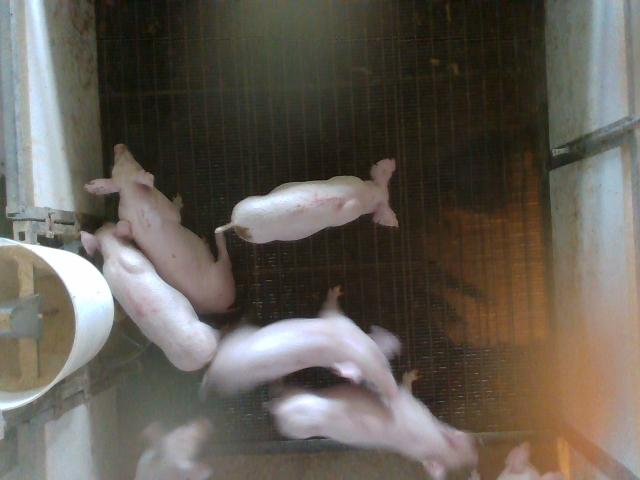pig-4: (81, 221, 219, 371)
pig-5: (215, 159, 397, 243)
